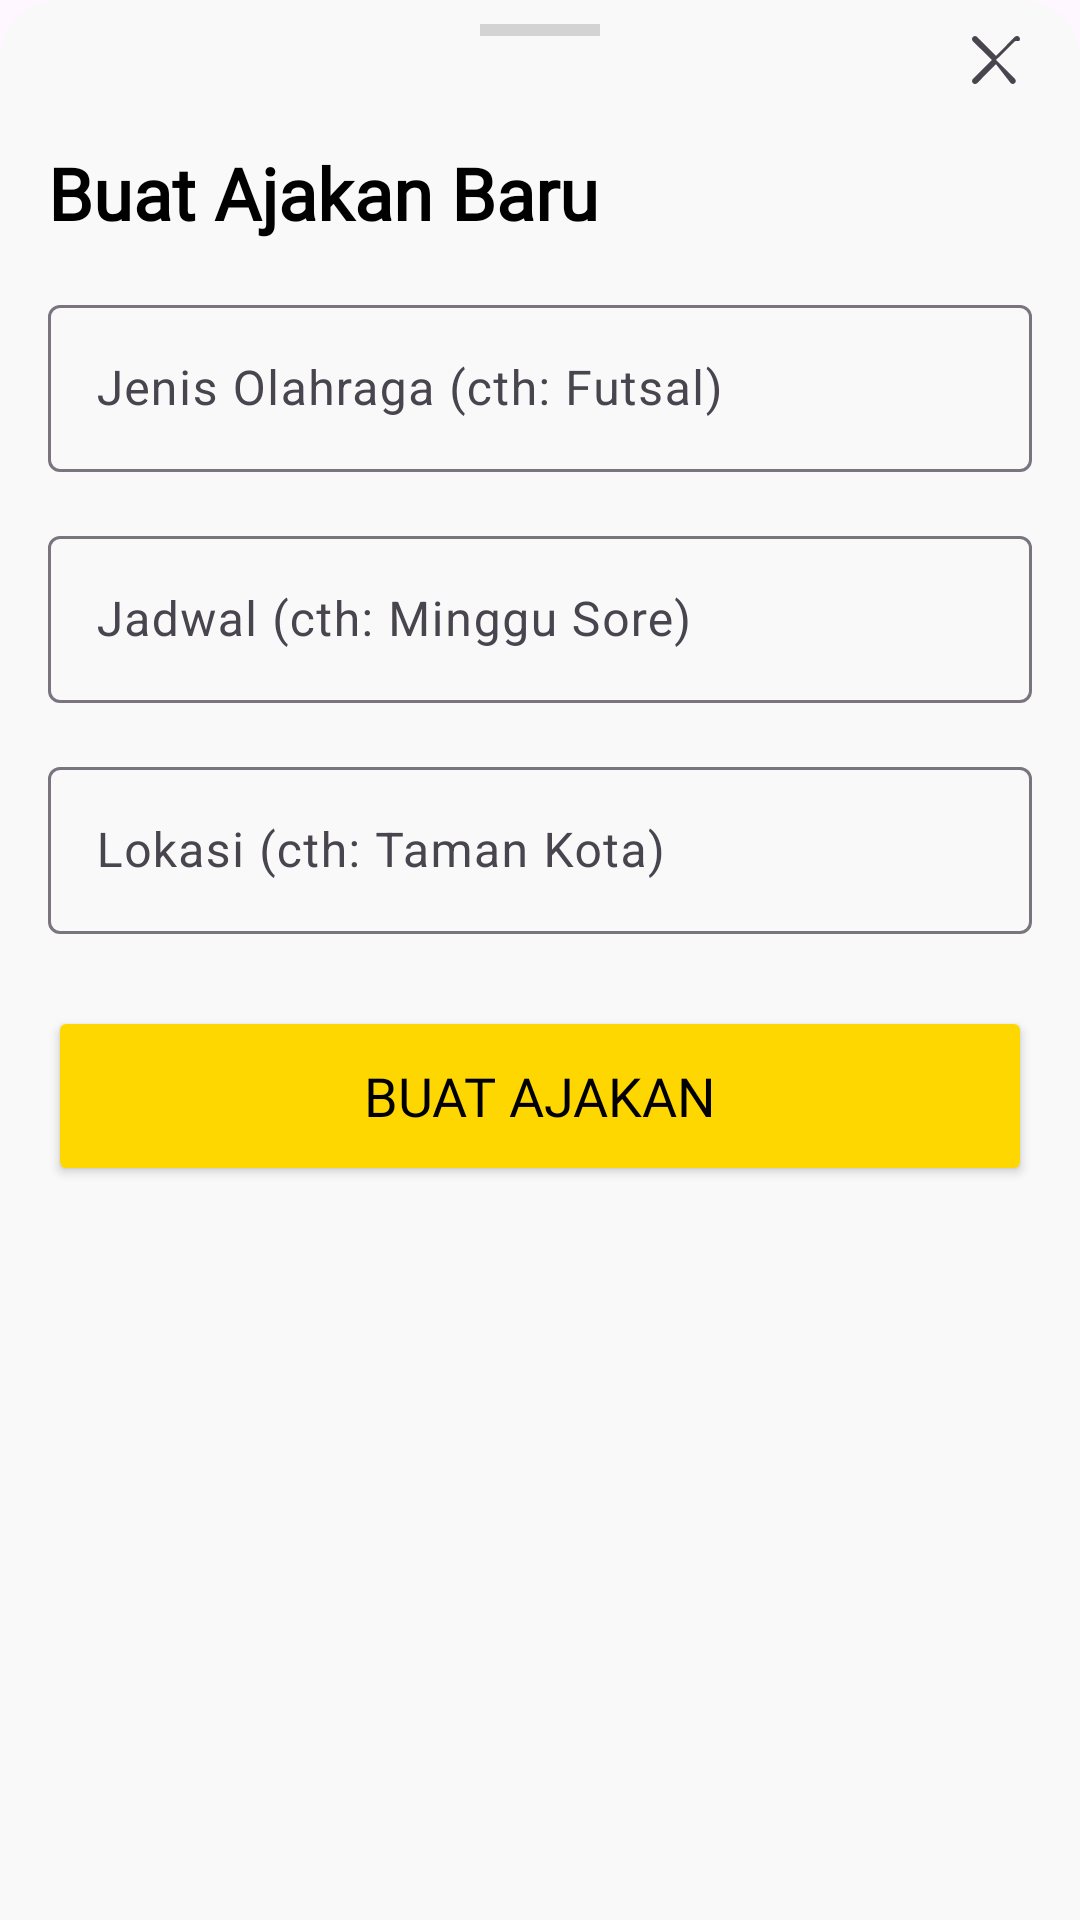

Named icons in this screenshot (1080×1920) and their centers, point (x, y):
Tutup: point (996, 60)
